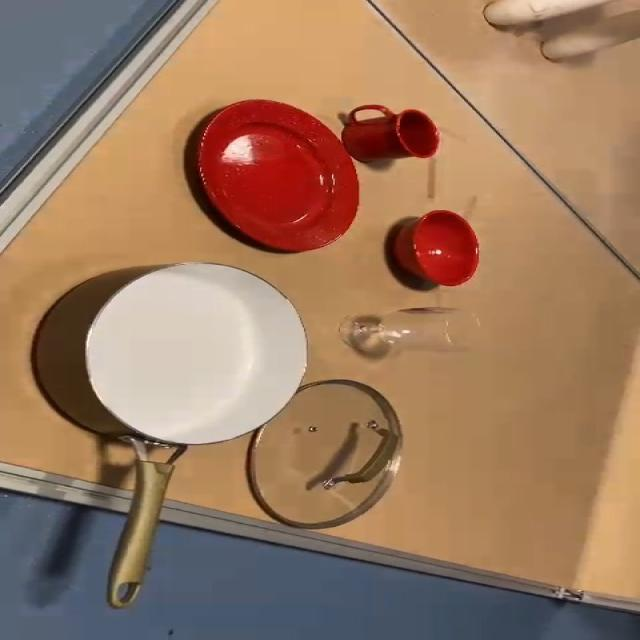Bowl: (385, 207, 493, 285)
Glass: (333, 300, 497, 353)
Plate: (177, 94, 358, 255)
cup: (345, 102, 450, 166)
pot: (50, 257, 328, 602)
